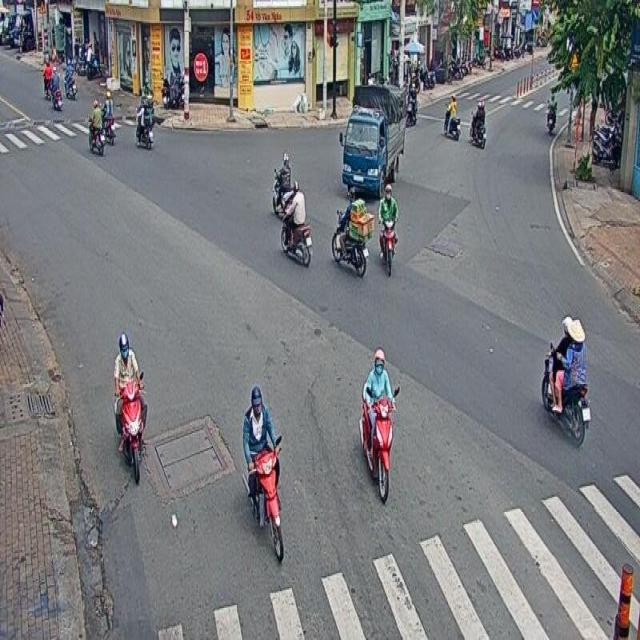motorcycle: (242, 385, 284, 564), (540, 316, 590, 446), (359, 349, 400, 501), (114, 332, 148, 483), (331, 186, 374, 277), (279, 178, 312, 267), (377, 183, 398, 276), (271, 152, 294, 216), (442, 93, 460, 142), (468, 100, 486, 148)
truck: (340, 82, 403, 194)
